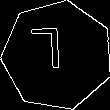L_S: (40, 30, 74, 82)
